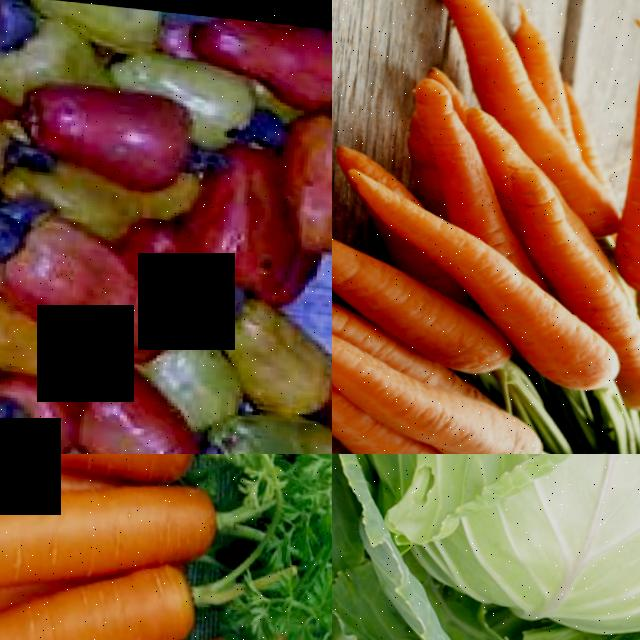cabbage: (332, 454, 640, 640)
carrot: (0, 471, 218, 602), (439, 0, 552, 112), (494, 300, 608, 398), (0, 579, 176, 640), (332, 222, 454, 306), (416, 392, 569, 454), (433, 127, 505, 207), (599, 303, 640, 410)
cashew: (0, 198, 24, 258)
